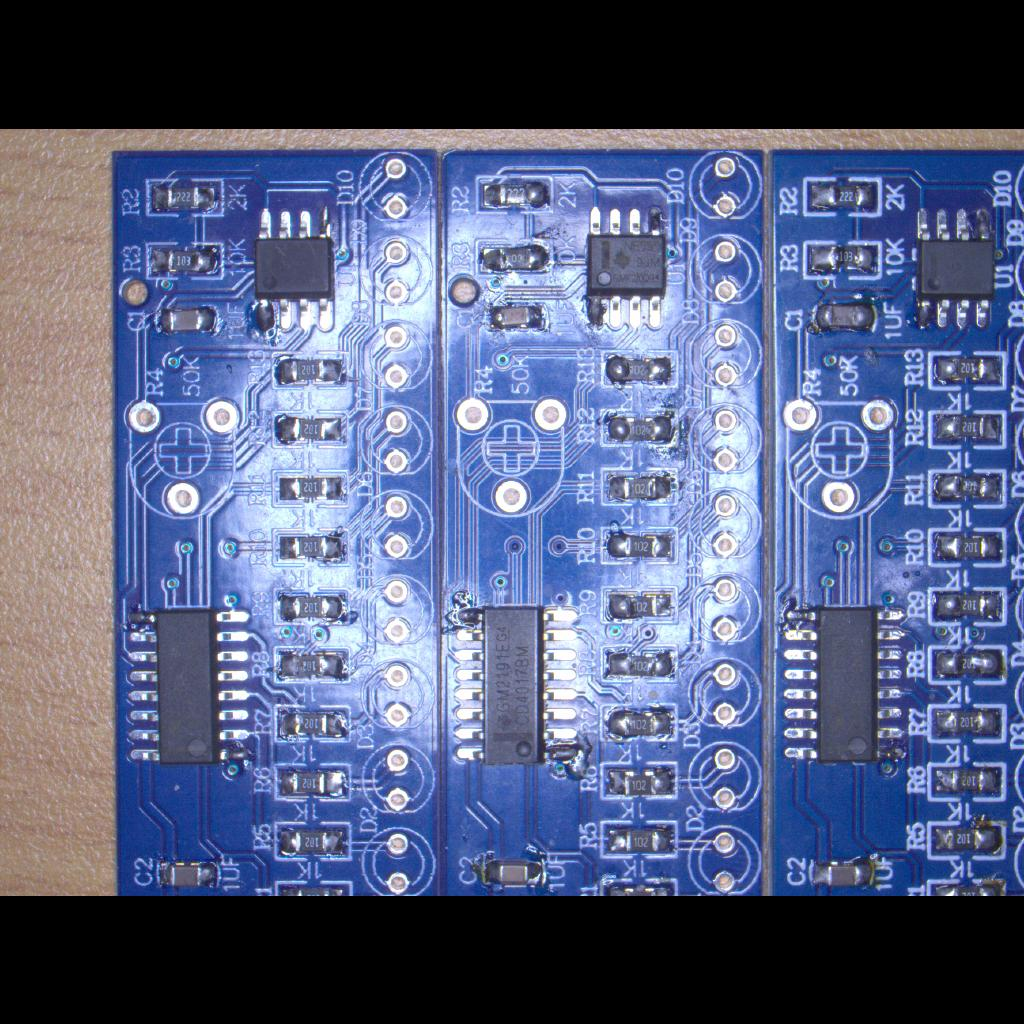OK: (446, 595, 594, 775), (773, 594, 919, 774), (118, 600, 258, 772), (578, 198, 672, 332), (252, 203, 346, 337), (806, 292, 888, 342), (924, 818, 1010, 864), (924, 760, 1008, 806), (800, 174, 884, 220), (598, 464, 682, 510), (926, 406, 1008, 452), (802, 238, 884, 284), (926, 643, 1010, 687), (924, 348, 1008, 392), (926, 585, 1010, 629), (270, 702, 354, 746), (928, 524, 1008, 570), (925, 467, 1007, 511), (599, 642, 681, 686), (598, 701, 680, 745), (269, 467, 351, 511), (598, 525, 682, 567), (598, 760, 682, 802), (927, 702, 1007, 746), (473, 173, 555, 215), (599, 406, 681, 448), (598, 347, 680, 389), (269, 408, 351, 450), (144, 175, 224, 217), (272, 819, 352, 861), (474, 236, 554, 278), (272, 644, 352, 686), (150, 296, 226, 340), (272, 762, 354, 802), (143, 240, 225, 280), (270, 350, 352, 390), (270, 526, 348, 568), (474, 850, 552, 892), (599, 584, 679, 624), (272, 585, 350, 625), (805, 852, 881, 892), (480, 298, 556, 336), (605, 823, 677, 857)
